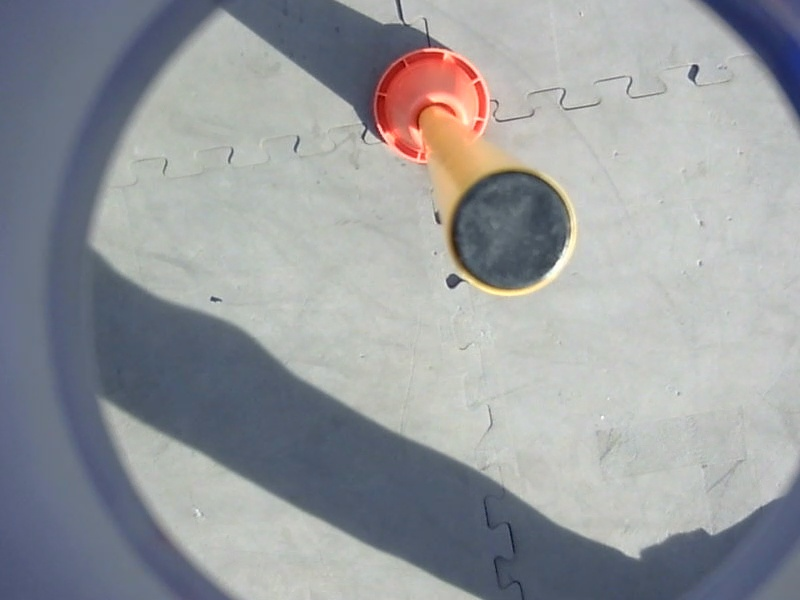tip: (439, 164, 582, 301)
